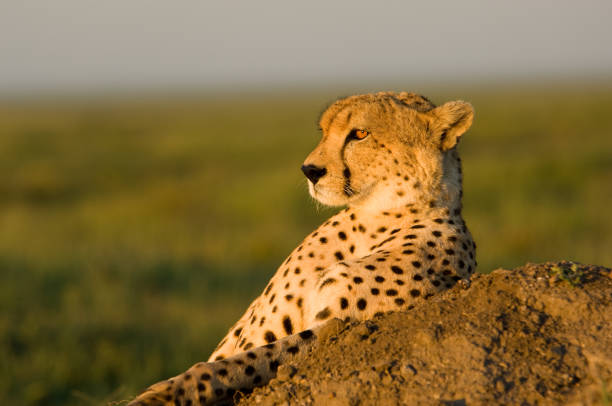cheetah: (265, 80, 499, 250)
